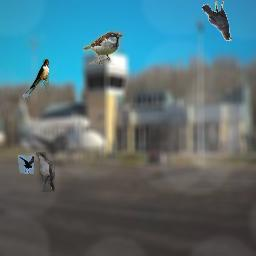Crow: (202, 1, 232, 41), (18, 155, 34, 174)
Cuckoo: (36, 152, 55, 192)
Sparrow: (83, 31, 123, 65)
Swallow: (23, 59, 49, 99)
